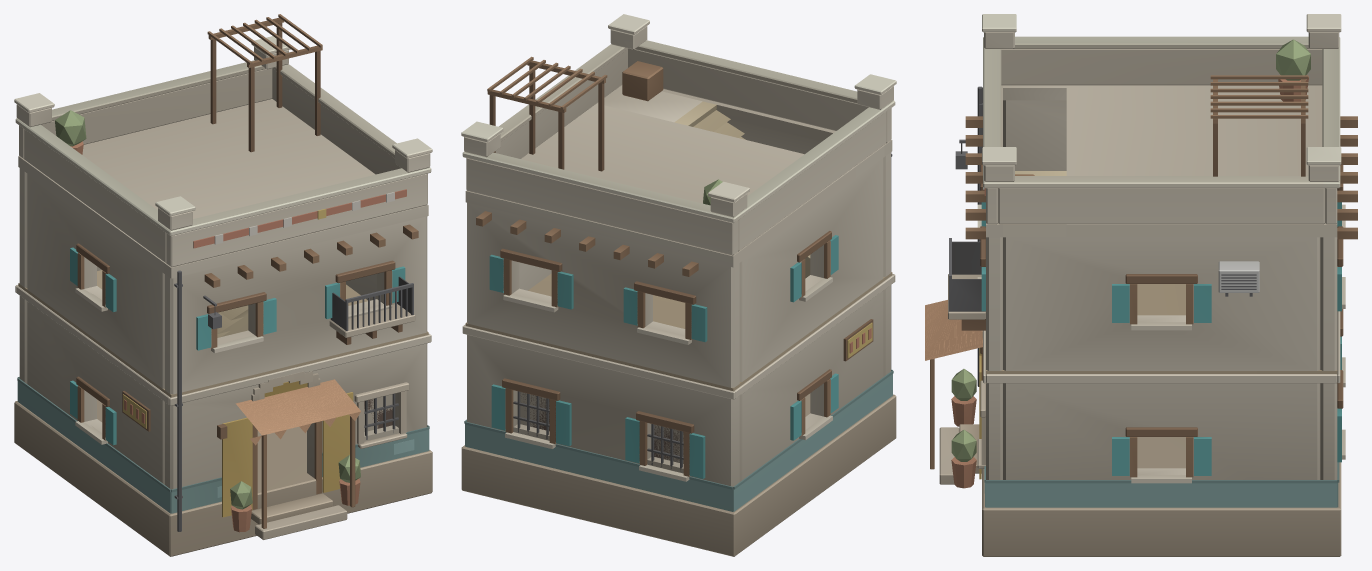
The model's file is house_5.glb.
3 views of the same model, side by side, from view 1: azimuth 30°, elevation 25°; view 2: azimuth 150°, elevation 25°; view 3: azimuth 270°, elevation 25° (orthographic). The views are drawn at different scales.
Visible parts, largest first — view 1: house_5; view 2: house_5; view 3: house_5.
Part boxes in pixels (x1,y1,x2,y2): house_5: (14, 14, 432, 556); house_5: (461, 14, 896, 556); house_5: (925, 14, 1357, 556).
Bounding box in the file's own units: 7.64 × 9.84 × 8.87.
